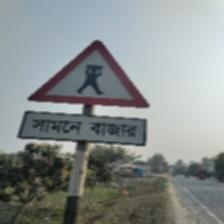Market-in-front: (21, 40, 147, 143)
